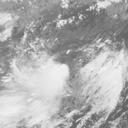cyclone: (26, 53, 69, 95)
